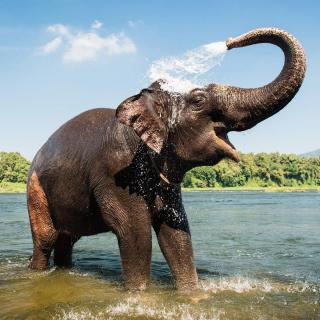Elephant: (19, 23, 308, 293)
